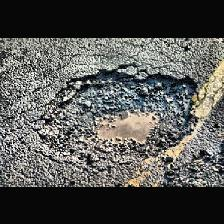pothole: (36, 60, 200, 170)
